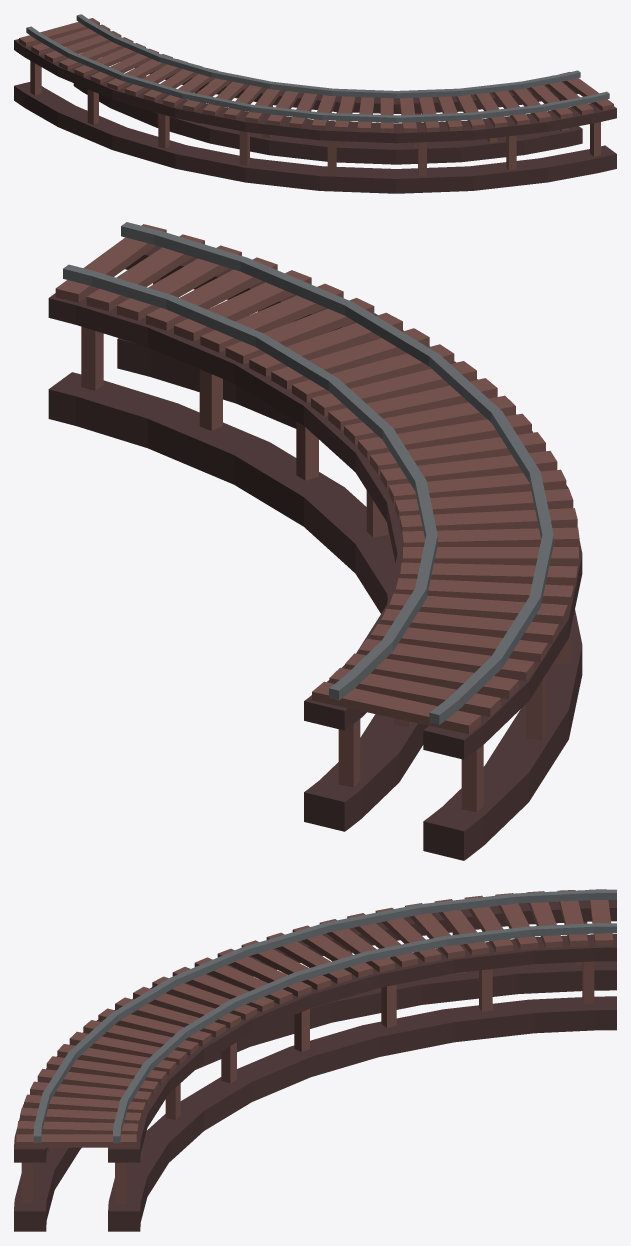
File: DarkRoseWoodMechMedium1_5GaugeRightTurn1.fbx
The picture shows the model from 3 angles, top to bottom: view 1: azimuth 30°, elevation 25°; view 2: azimuth 150°, elevation 25°; view 3: azimuth 270°, elevation 25°; orthographic projection. The views are drawn at different scales.
Visible parts, largest first — view 1: DarkRoseWoodMechMedium1_5GaugeRightTurn1; view 2: DarkRoseWoodMechMedium1_5GaugeRightTurn1; view 3: DarkRoseWoodMechMedium1_5GaugeRightTurn1.
Part boxes in pixels (x1,y1,x2,y2): DarkRoseWoodMechMedium1_5GaugeRightTurn1: (14,14,616,193); DarkRoseWoodMechMedium1_5GaugeRightTurn1: (48,222,582,860); DarkRoseWoodMechMedium1_5GaugeRightTurn1: (14,889,616,1231).
Bounding box in the file's own units: 1265 × 221 × 1265.
